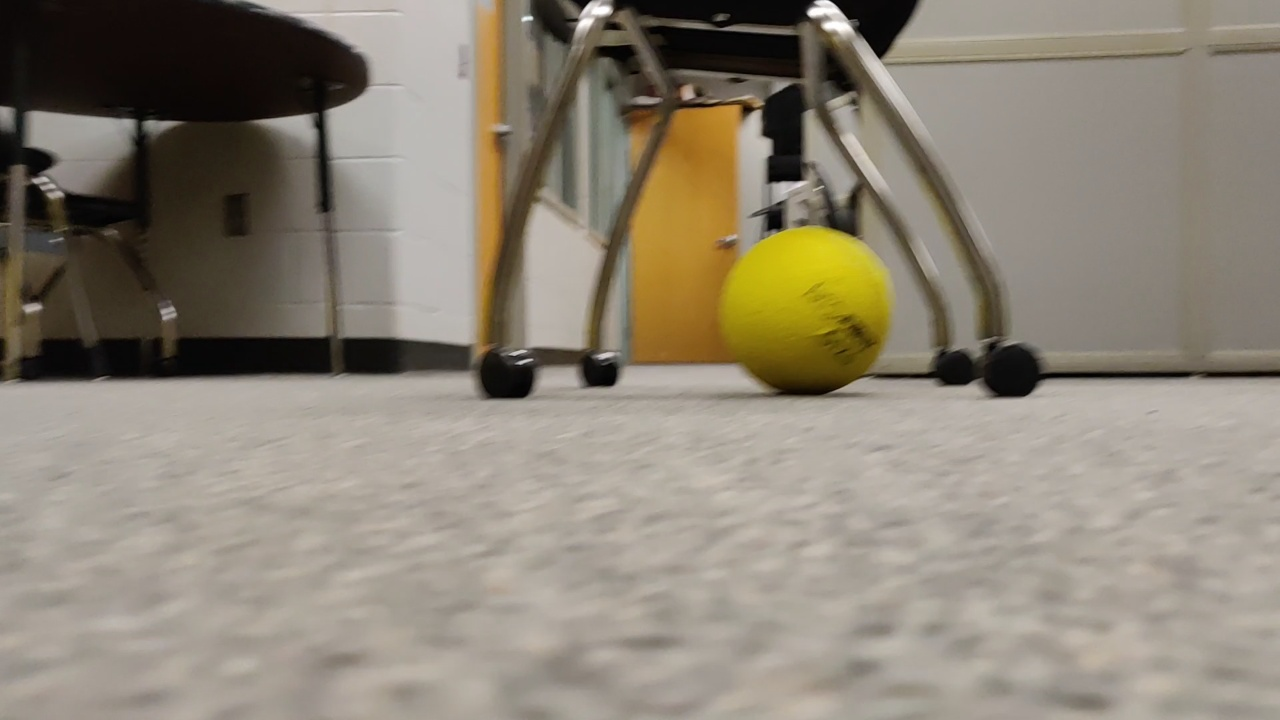Ball: (725, 221, 889, 393)
